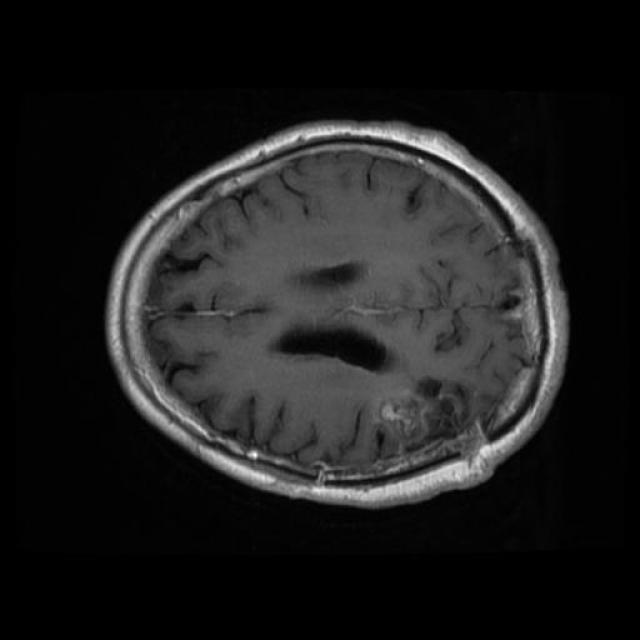Glioma: (376, 378, 493, 475)
